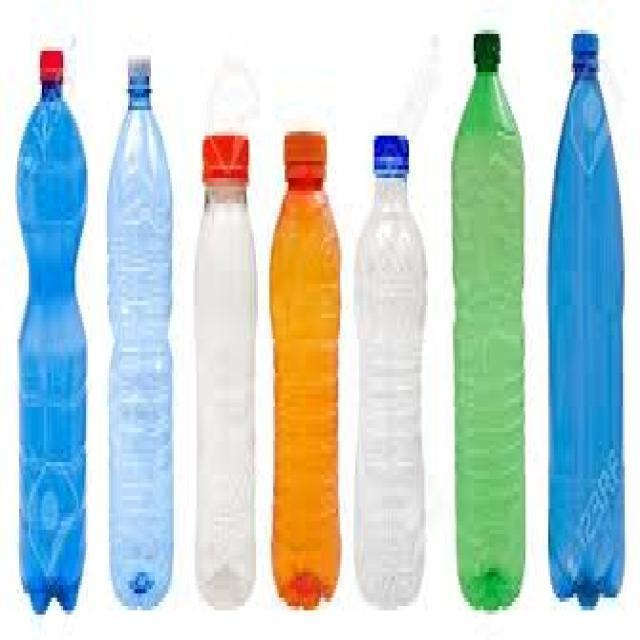Plastic: (547, 29, 625, 606), (450, 34, 524, 612), (14, 46, 87, 614), (105, 47, 175, 608), (270, 128, 342, 610), (354, 135, 424, 602), (194, 133, 256, 610)
